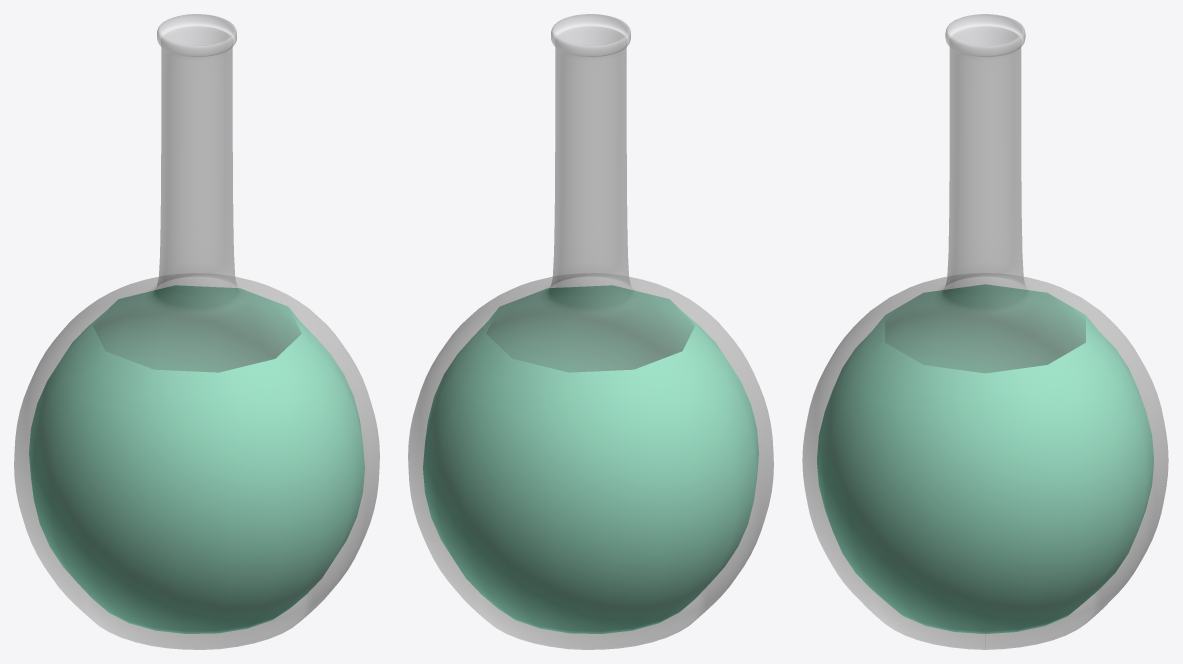
Rendered from round_beaker.fbx.
3 views of the same model, side by side, from view 1: azimuth 30°, elevation 25°; view 2: azimuth 150°, elevation 25°; view 3: azimuth 270°, elevation 25° (orthographic).
Visible parts, largest first — view 1: polySurface3, polySurface4; view 2: polySurface3, polySurface4; view 3: polySurface3, polySurface4.
Boxes of the visible parts, x1=… form: polySurface3: x1=14, y1=14, x2=379, y2=649; polySurface4: x1=29, y1=285, x2=364, y2=633; polySurface3: x1=408, y1=14, x2=773, y2=649; polySurface4: x1=423, y1=285, x2=758, y2=633; polySurface3: x1=802, y1=14, x2=1168, y2=649; polySurface4: x1=817, y1=284, x2=1153, y2=633.
Size of the model in its own units: 1.12 by 1.94 by 1.12.
